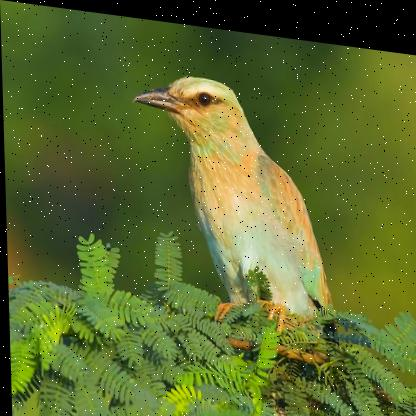Burung: (130, 64, 338, 328)
